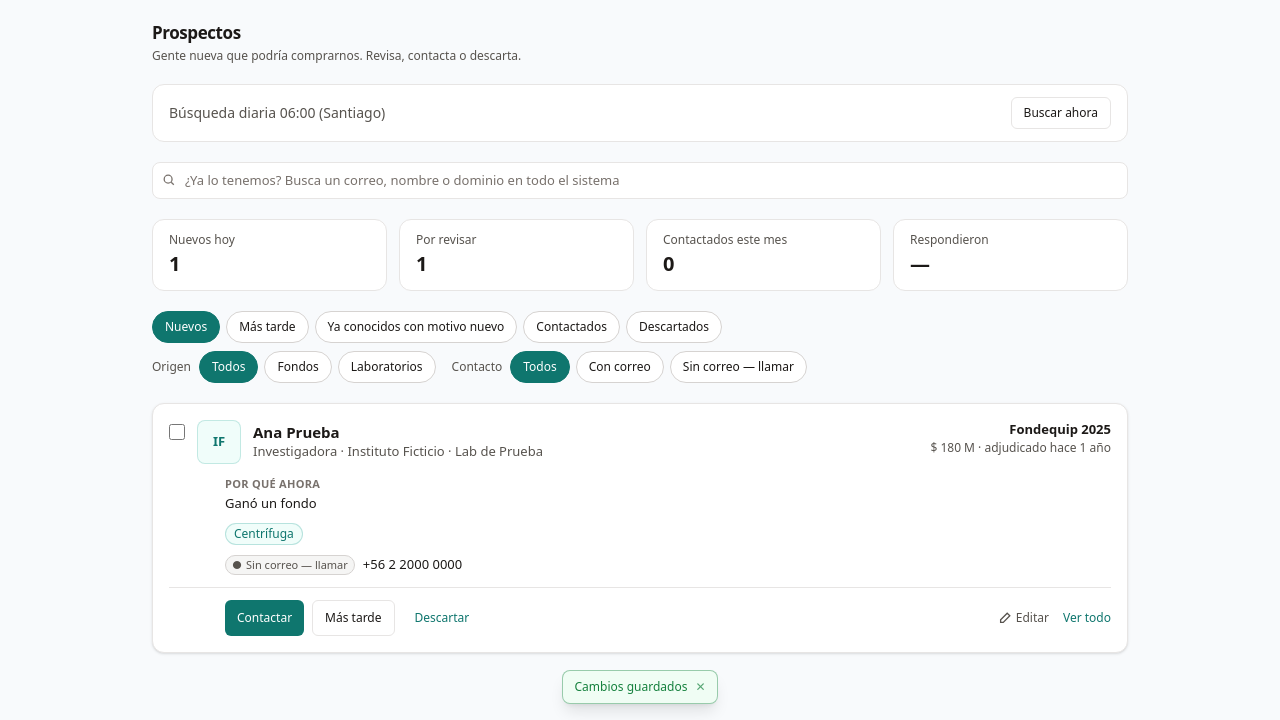
Test case: ¿Ya lo tenemos? › says plainly when nothing matched
expect the element with test id "^prospect-card-" is shown: met, box [152, 403, 1128, 652]
Replace the text in the search field with test id "system-search" with "nadie@ninguno.example.test" at (640, 180), box [152, 162, 1128, 199]
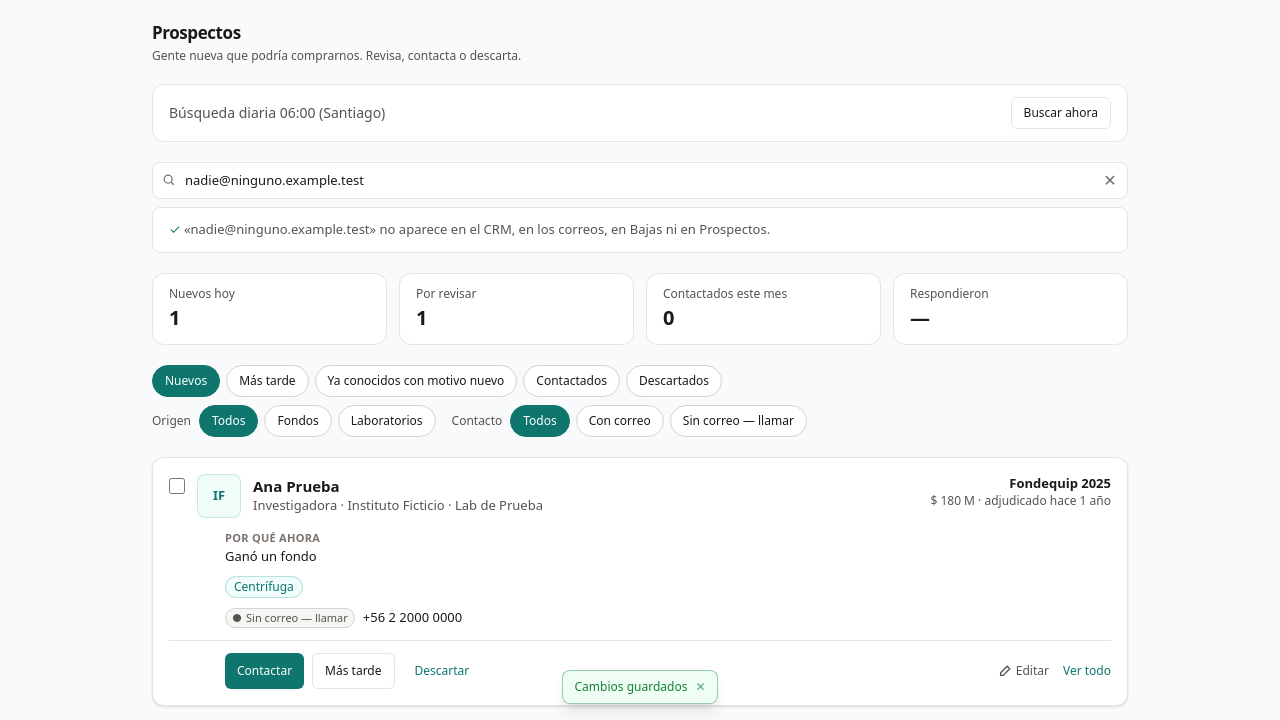
expect the message with test id "lookup-empty" shows "no aparece": met, box [370, 220, 770, 238]
